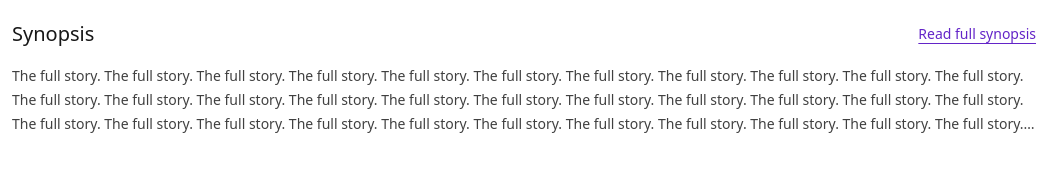
Scenario: lets users expand and collapse the complete synopsis without losing focus
Click the button "Read full synopsis".
click(977, 34)  # box left=918, top=12, right=1036, bottom=56
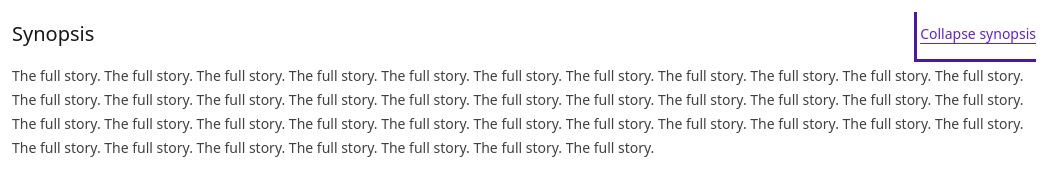
Now the button "Collapse synopsis" is expanded
Click the button "Collapse synopsis".
click(978, 34)  # box left=920, top=12, right=1036, bottom=56
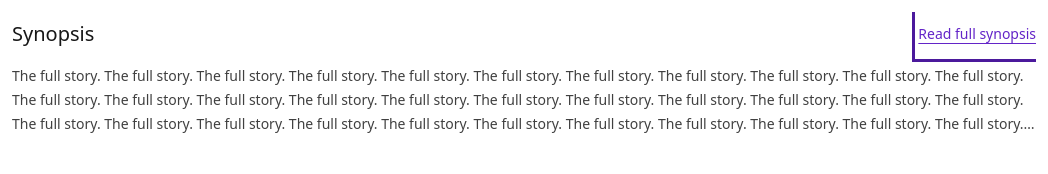
Now the button named "Collapse synopsis" is collapsed, box left=918, top=12, right=1036, bottom=56
